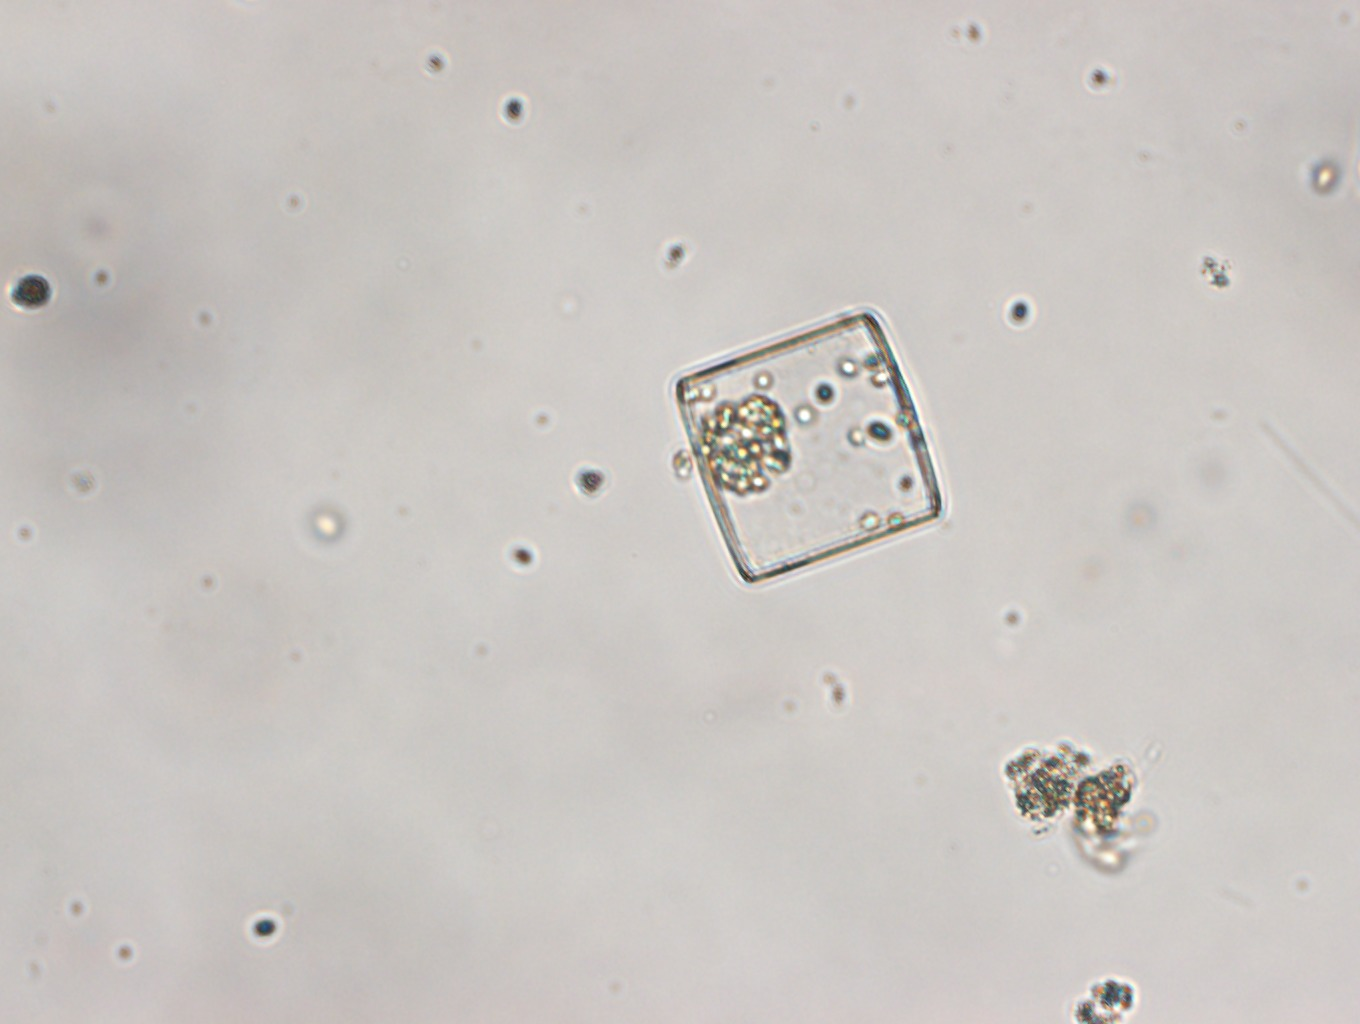guinardia flaccida: (669, 307, 945, 586)
